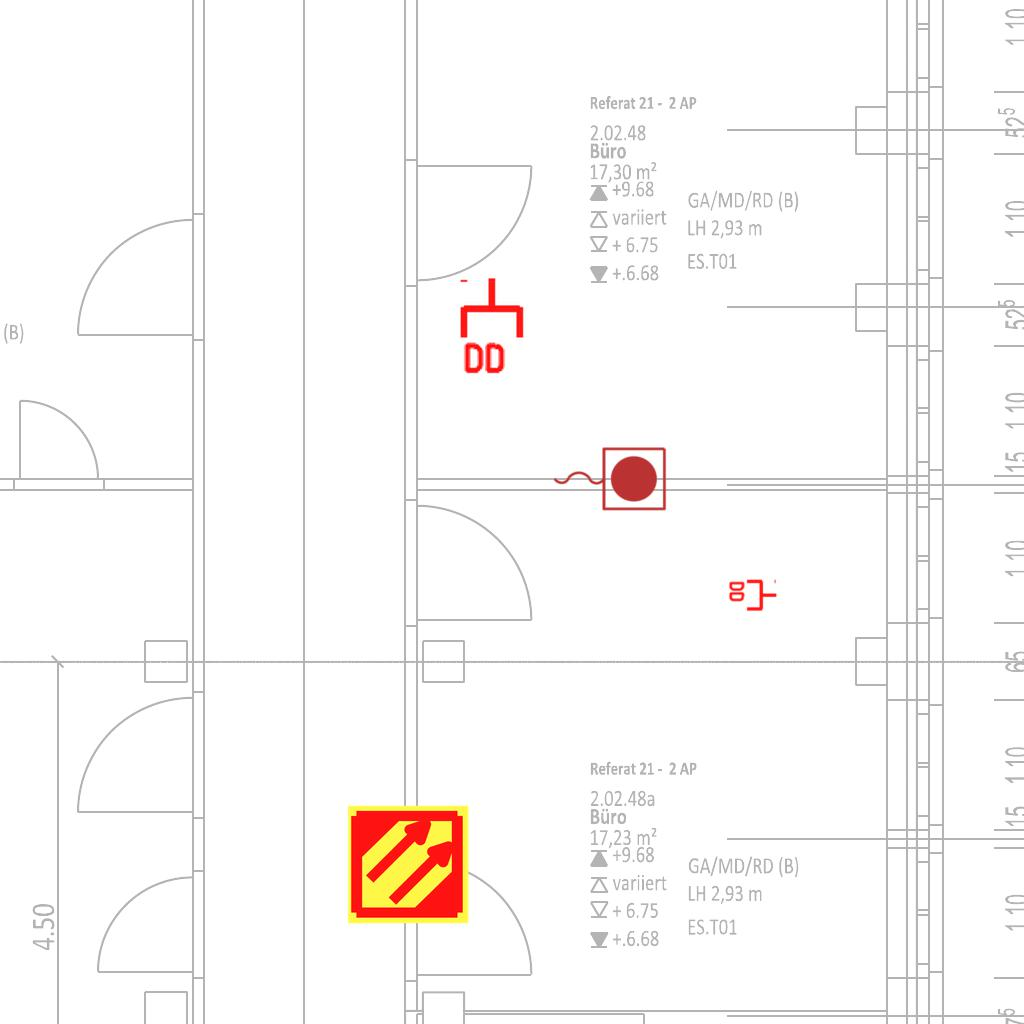ASR_Ansaugrauchmelder: (346, 802, 471, 927)
Datenanschluss_zweifach: (459, 275, 528, 378), (727, 579, 778, 613)
Zugtaster: (548, 442, 670, 514)
